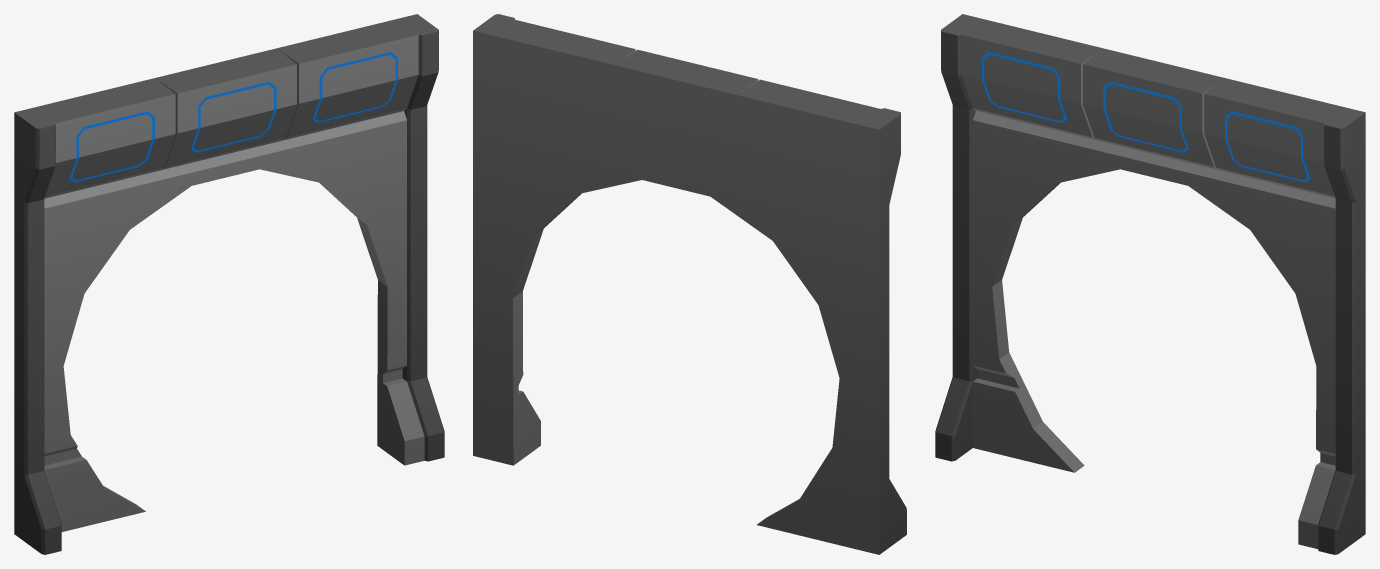
The model's file is Wall_type_B_060.glb.
The picture shows the model from 3 angles, left to right: view 1: azimuth 30°, elevation 25°; view 2: azimuth 150°, elevation 25°; view 3: azimuth 330°, elevation 25°; orthographic projection.
Parts seen in each view (by area): view 1: Wall_type_B_060; view 2: Wall_type_B_060; view 3: Wall_type_B_060.
Part boxes in pixels (bbox=[...]): Wall_type_B_060: bbox=[14, 14, 444, 554]; Wall_type_B_060: bbox=[473, 14, 906, 554]; Wall_type_B_060: bbox=[935, 14, 1365, 554].
Bounding box in the file's own units: 4 × 4 × 0.5.
2 materials, 2 textured.
